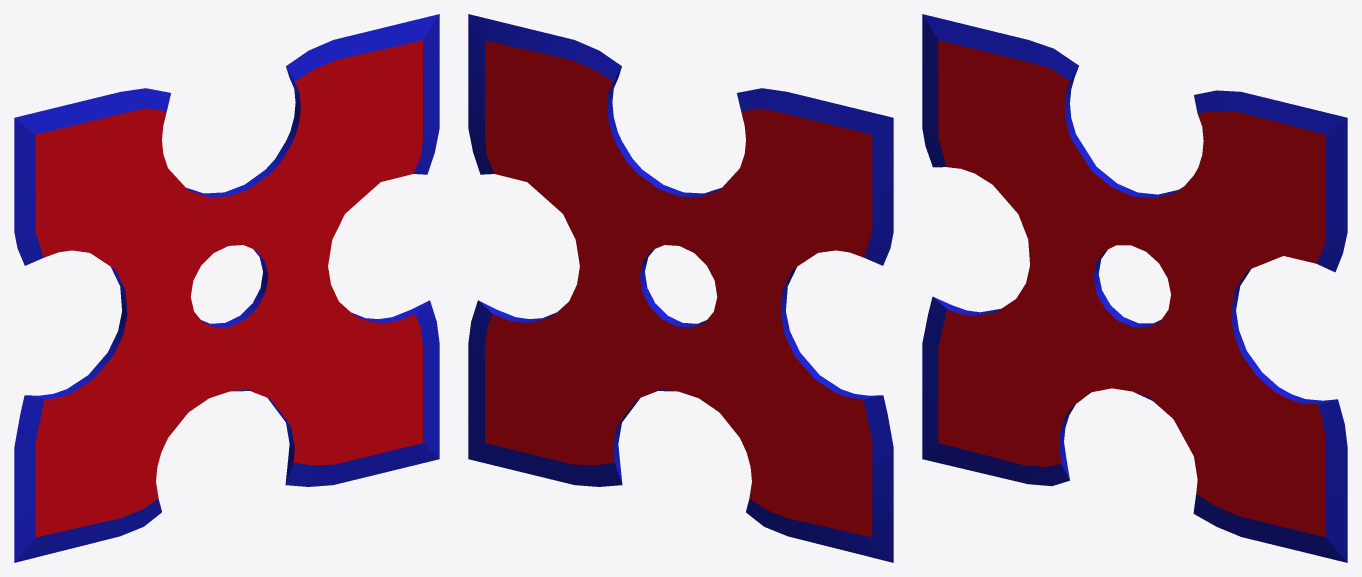
Rendered from Shuriken_6.fbx.
The picture shows the model from 3 angles, left to right: view 1: azimuth 30°, elevation 25°; view 2: azimuth 150°, elevation 25°; view 3: azimuth 330°, elevation 25°; orthographic projection.
Parts seen in each view (by area): view 1: Shuriken_6; view 2: Shuriken_6; view 3: Shuriken_6.
Part boxes in pixels (left/top/right/bottom): Shuriken_6: left=14, top=14, right=439, bottom=562; Shuriken_6: left=468, top=14, right=893, bottom=562; Shuriken_6: left=922, top=14, right=1347, bottom=562.
Size of the model in its own units: 2 by 2 by 0.0431.
